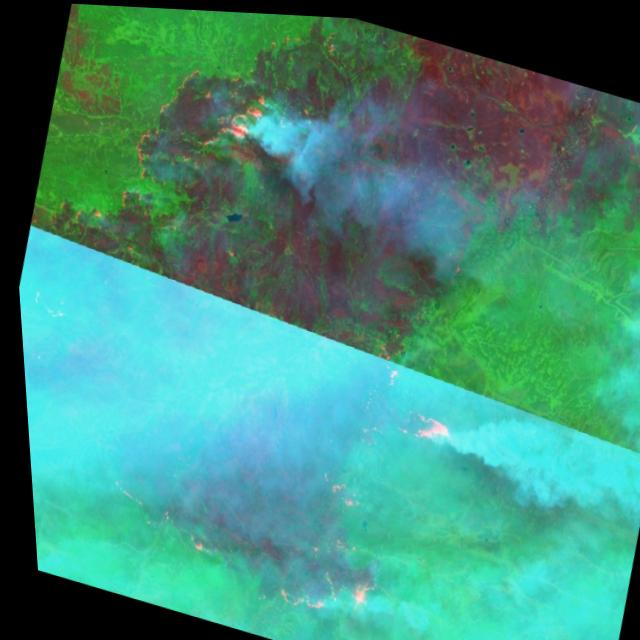fire: (77, 465, 393, 635), (110, 35, 294, 220), (372, 382, 464, 458), (300, 456, 365, 527), (357, 328, 408, 384)
